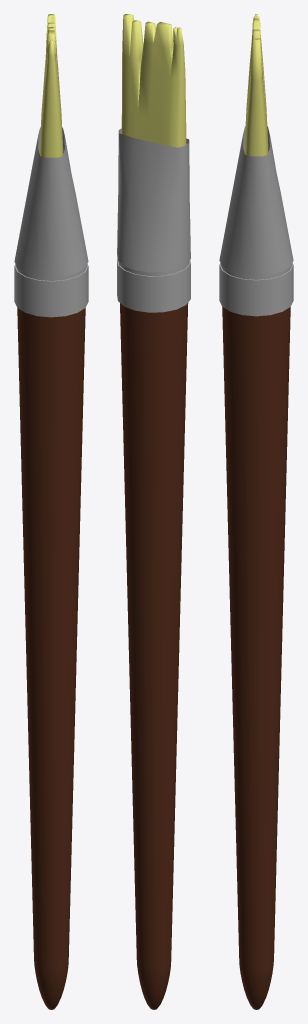
File: paintBrushV1.gltf
The picture shows the model from 3 angles, left to right: view 1: azimuth 90°, elevation 25°; view 2: azimuth 150°, elevation 25°; view 3: azimuth 270°, elevation 25°; orthographic projection.
Parts seen in each view (by area): view 1: brush1; view 2: brush1; view 3: brush1.
Boxes of the visible parts, left/top/right/bottom form: brush1: left=14, top=14, right=88, bottom=1009; brush1: left=117, top=14, right=190, bottom=1009; brush1: left=219, top=14, right=293, bottom=1009.
Bounding box in the file's own units: 1.03 × 14.56 × 0.9957.
